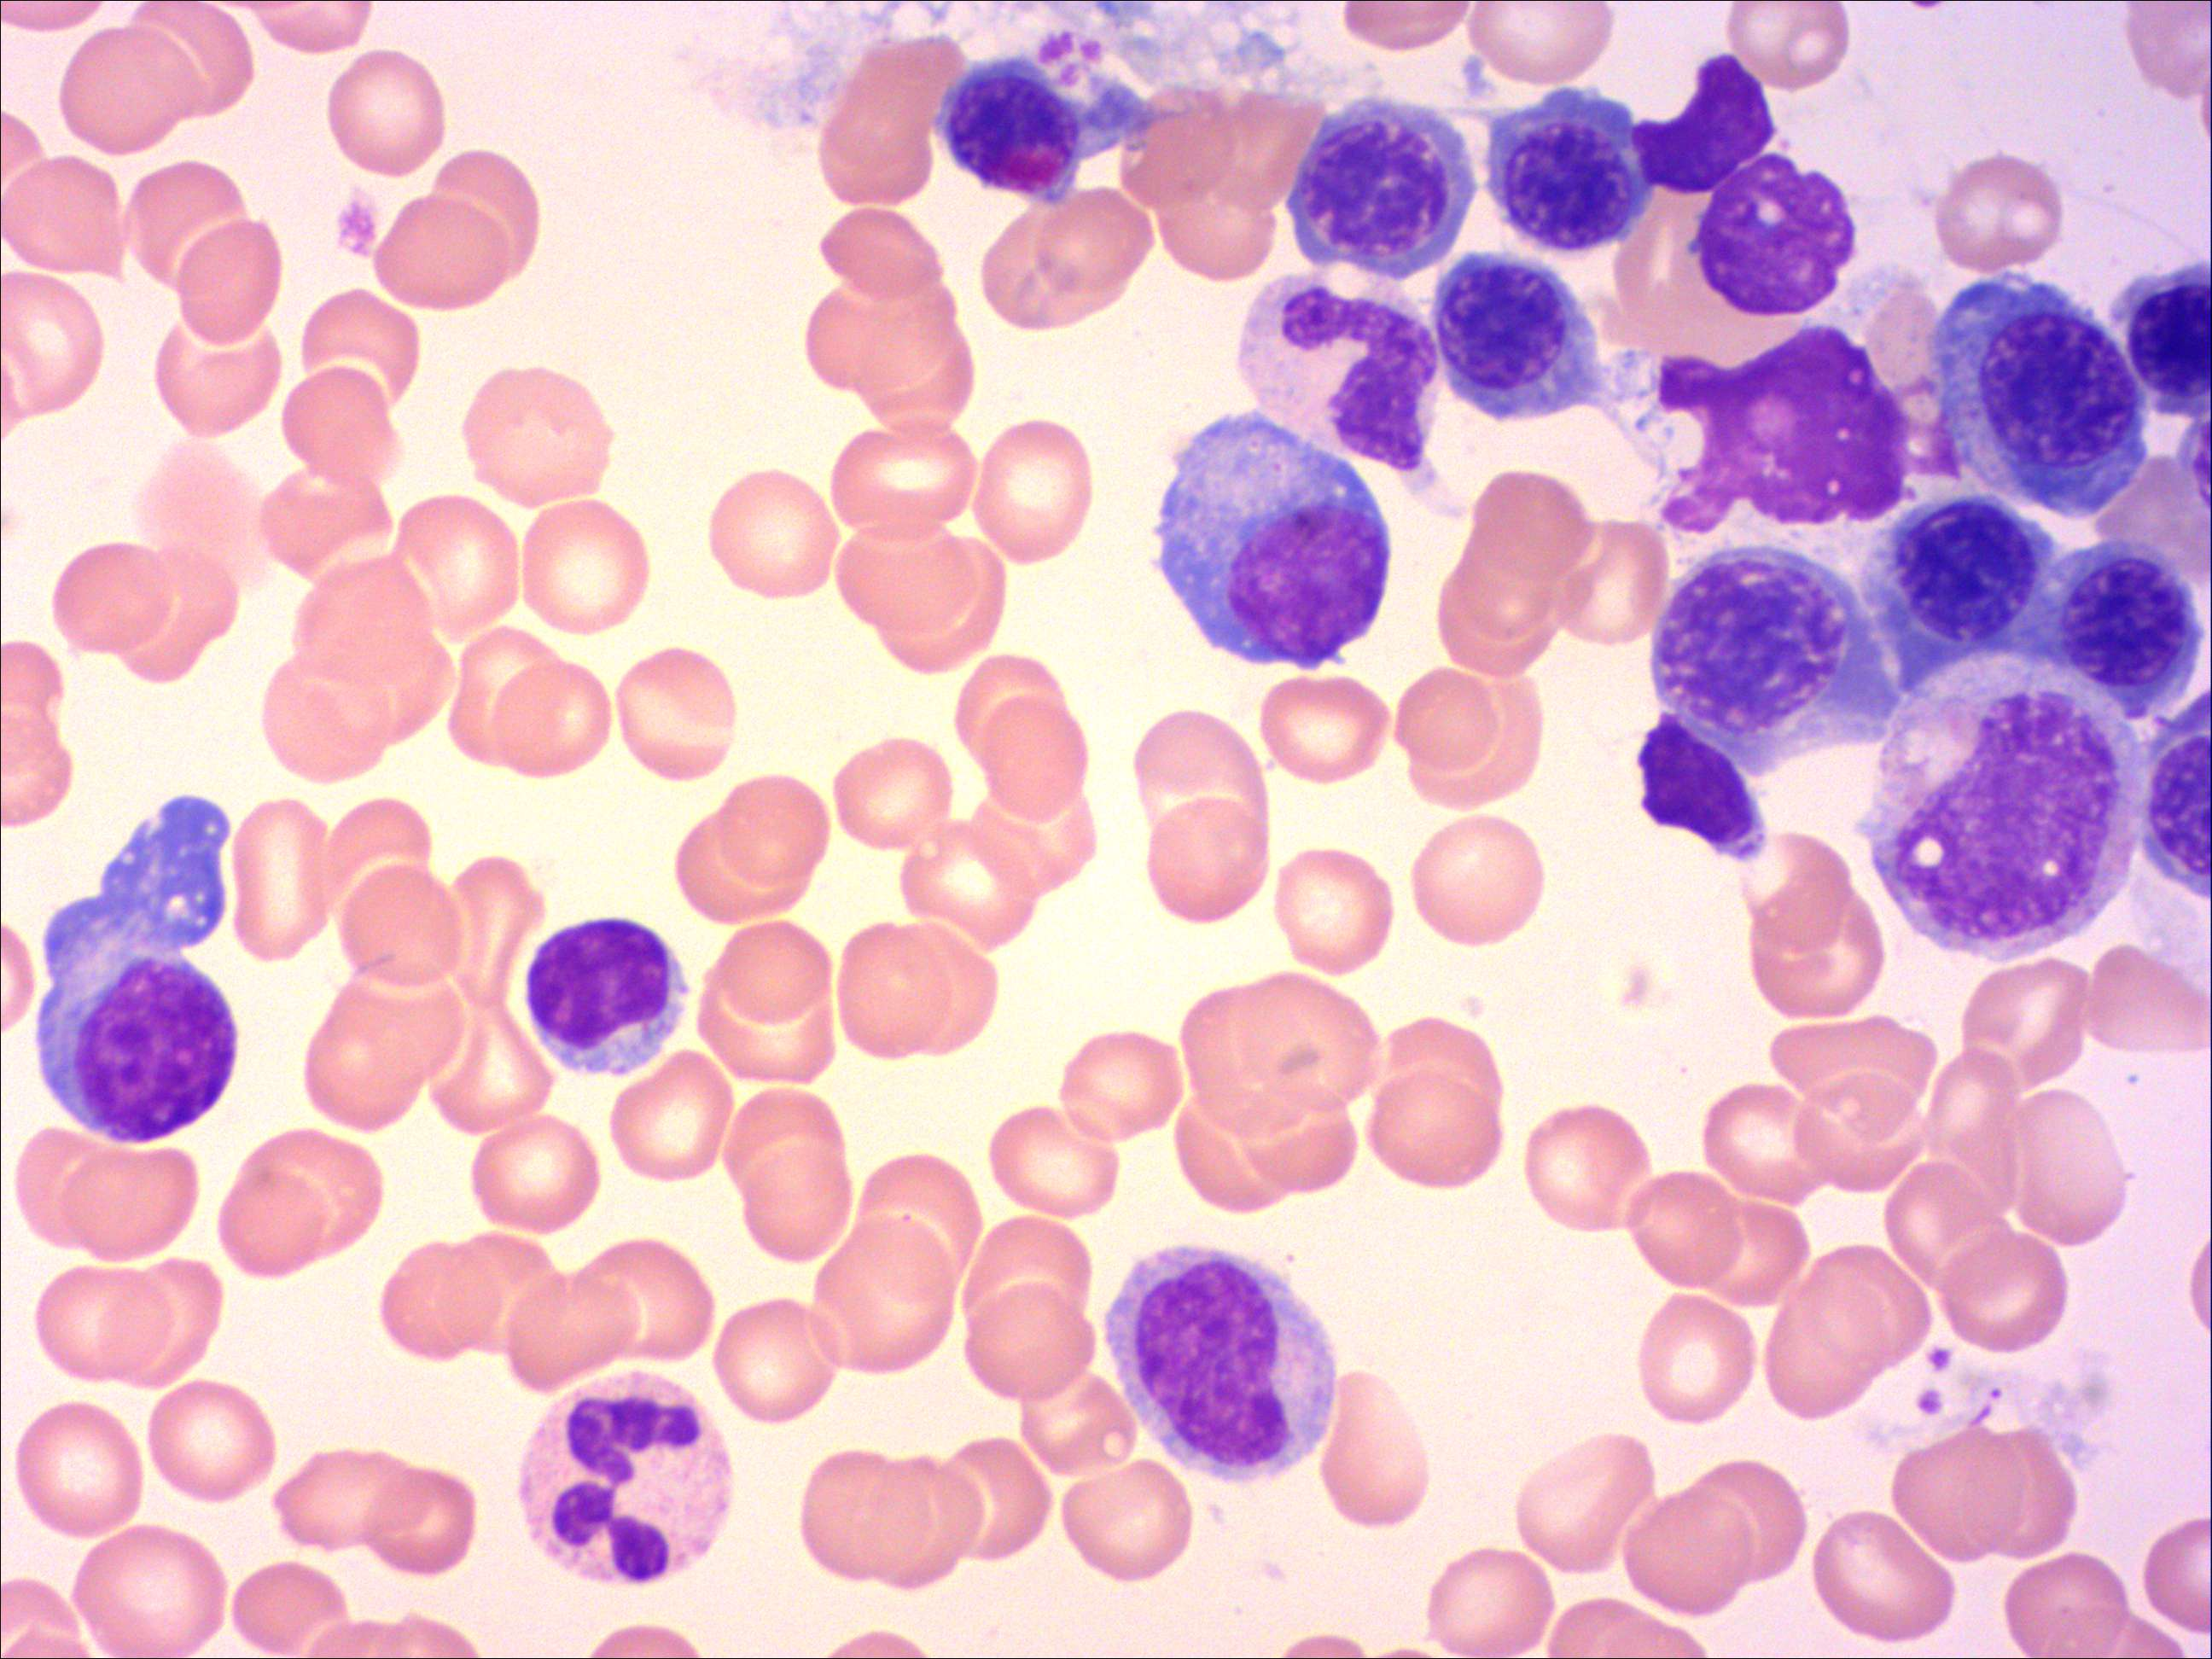23: (1642, 544, 1911, 784), (1925, 263, 2153, 528), (1280, 91, 1487, 284), (1421, 240, 1615, 427), (1851, 491, 2064, 652), (1479, 78, 1667, 258), (2057, 532, 2212, 721)
3: (1850, 645, 2146, 971)
32: (521, 915, 695, 1082), (1632, 708, 1773, 870)
42: (1094, 1237, 1341, 1493)
5: (1231, 267, 1449, 481)
51: (35, 791, 240, 1152), (1148, 401, 1400, 678)
6: (514, 1368, 738, 1596)
x: (1651, 317, 1918, 542), (928, 49, 1167, 207), (1686, 148, 1864, 324), (1625, 45, 1785, 202), (2137, 685, 2212, 903)
